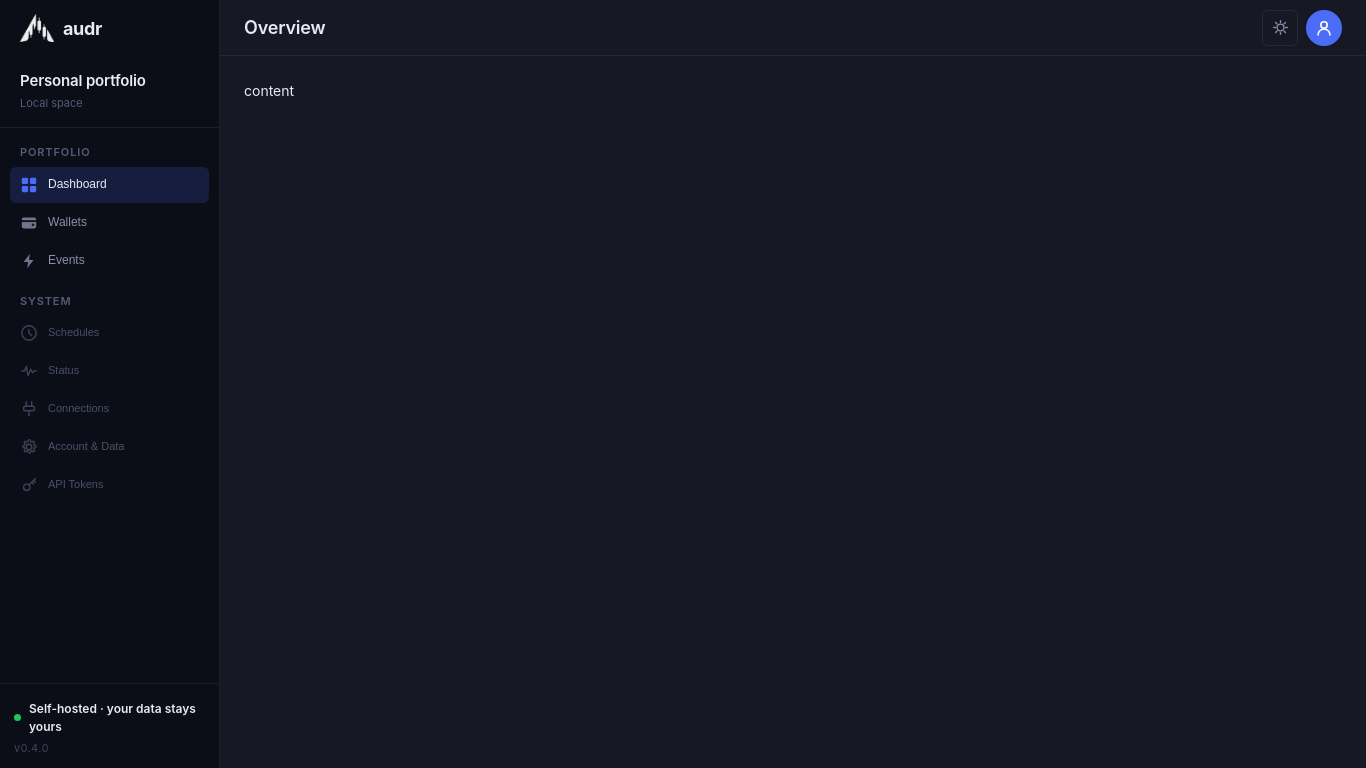
Test case: Layout › closes the menu on an outside click
Click the button named "Account menu". click: (1324, 28)
box: [1306, 10, 1342, 46]
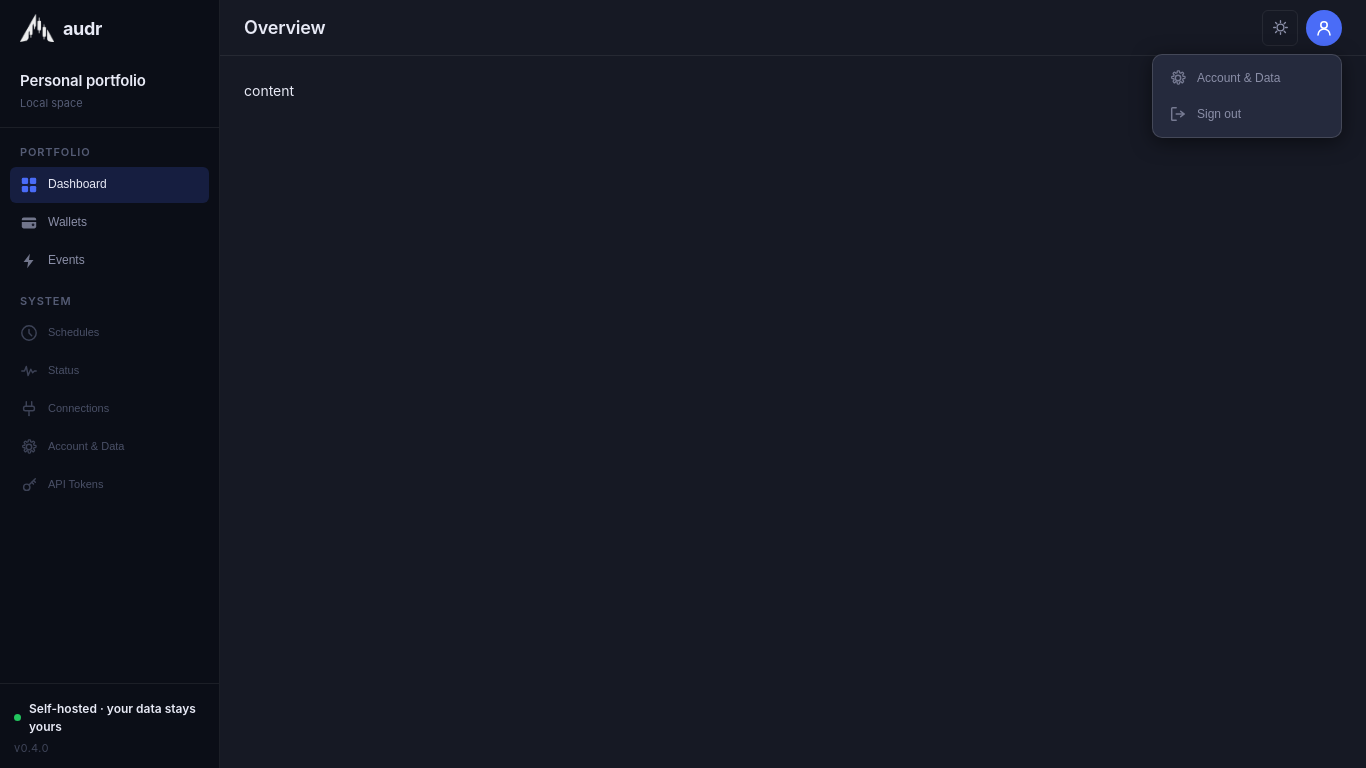
Check: the menu is shown, box [1152, 54, 1342, 138]
Press the mouse on the element that starts with "audr" at (683, 384), box [0, 0, 1365, 767]
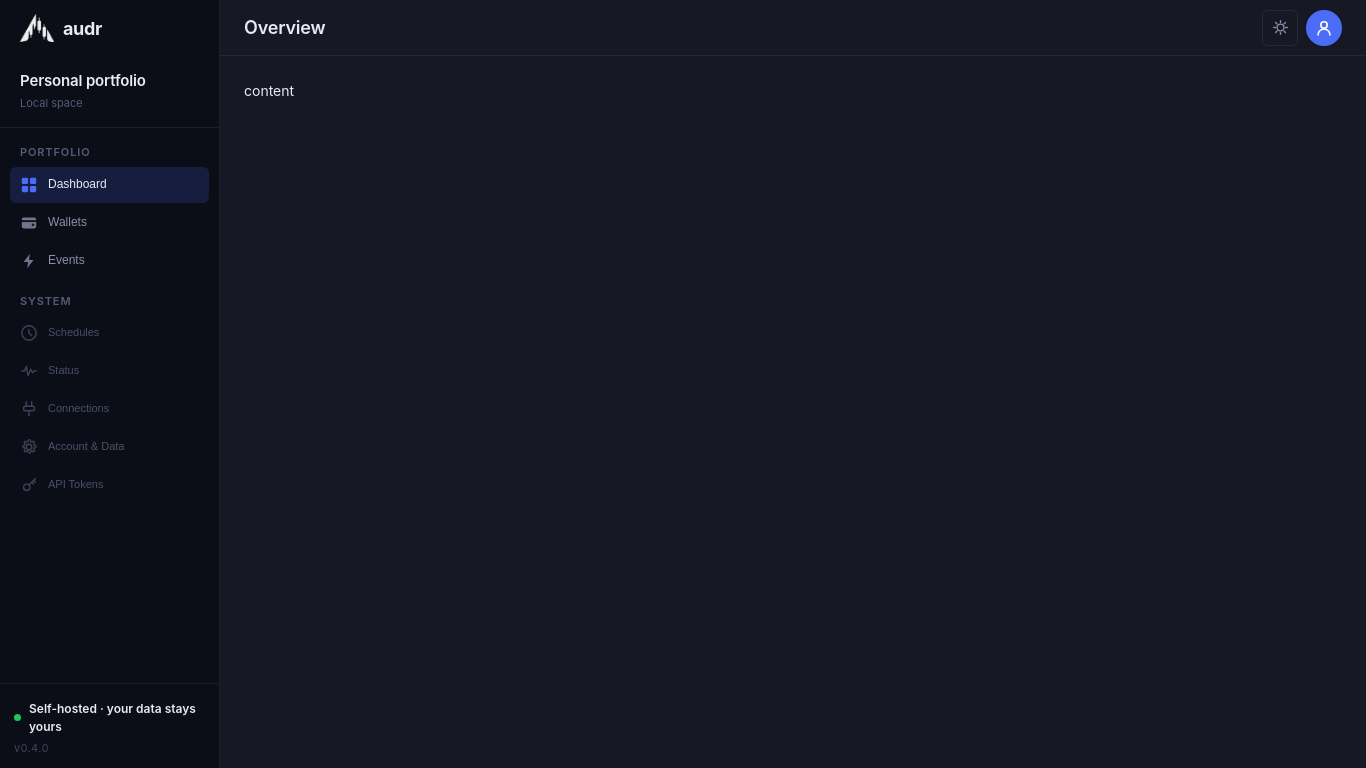
Check: the menu is gone
